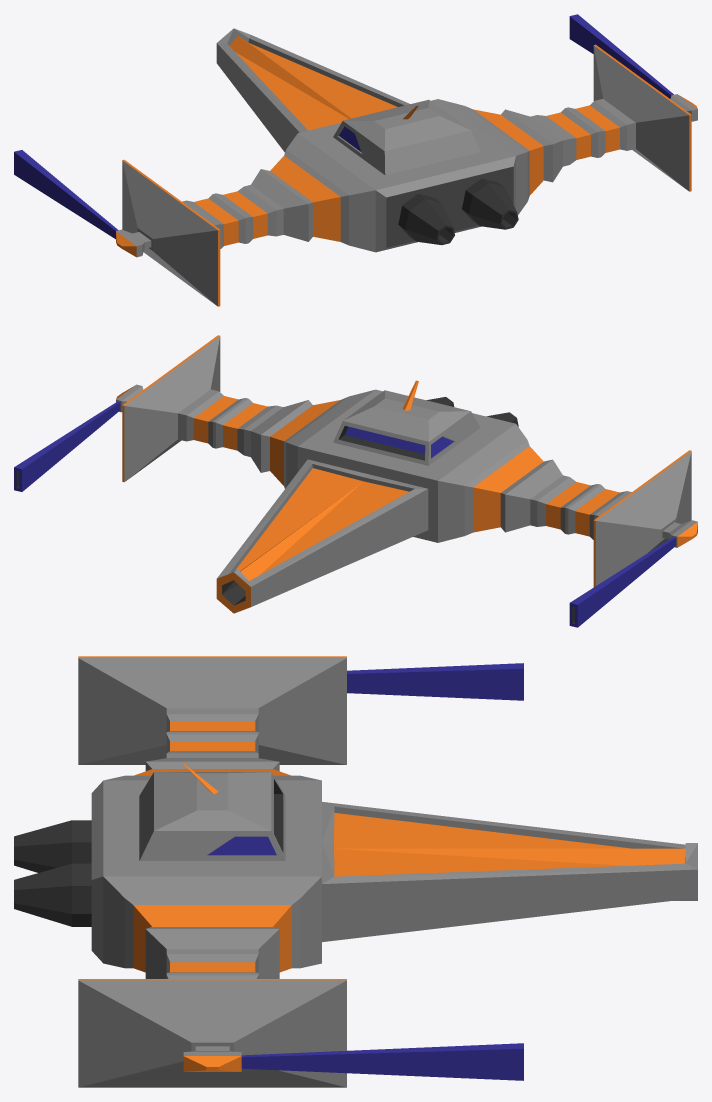
File: spaceships.obj
3 views of the same model, one above another, from view 1: azimuth 30°, elevation 25°; view 2: azimuth 150°, elevation 25°; view 3: azimuth 270°, elevation 25° (orthographic). The views are drawn at different scales.
Visible parts, largest first — view 1: Cube_Cube.001; view 2: Cube_Cube.001; view 3: Cube_Cube.001.
Part boxes in pixels (x1,y1,x2,y2): Cube_Cube.001: [14, 14, 697, 306]; Cube_Cube.001: [14, 335, 697, 627]; Cube_Cube.001: [14, 656, 697, 1087].
Bounding box in the file's own units: 19.36 × 3.73 × 14.23.
Materials: 1 (1 with a texture image).
